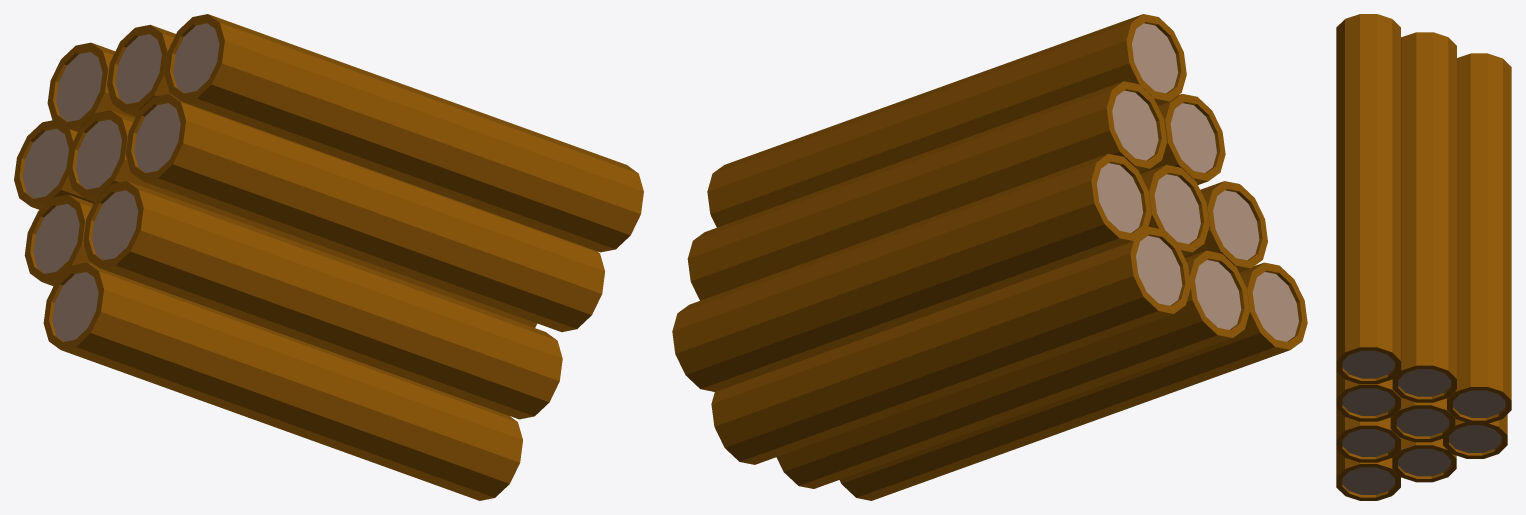
Rendered from Woods.fbx.
3 renders of one model, left to right at view 1: azimuth 30°, elevation 25°; view 2: azimuth 150°, elevation 25°; view 3: azimuth 270°, elevation 25°, orthographic. The views are drawn at different scales.
Visible parts, largest first — view 1: imagetostl_mesh0, imagetostl_mesh2, imagetostl_mesh3, imagetostl_mesh1, imagetostl_mesh5, imagetostl_mesh7, imagetostl_mesh4, imagetostl_mesh6, imagetostl_mesh8; view 2: imagetostl_mesh7, imagetostl_mesh8, imagetostl_mesh6, imagetostl_mesh0, imagetostl_mesh4, imagetostl_mesh3, imagetostl_mesh2, imagetostl_mesh1, imagetostl_mesh5; view 3: imagetostl_mesh0, imagetostl_mesh6, imagetostl_mesh7, imagetostl_mesh2, imagetostl_mesh3, imagetostl_mesh1, imagetostl_mesh5, imagetostl_mesh4, imagetostl_mesh8.
Part boxes in pixels (x1=…): imagetostl_mesh0: x1=164, y1=14, x2=643, y2=252; imagetostl_mesh2: x1=83, y1=181, x2=562, y2=419; imagetostl_mesh3: x1=43, y1=262, x2=522, y2=500; imagetostl_mesh1: x1=125, y1=94, x2=604, y2=332; imagetostl_mesh5: x1=68, y1=110, x2=537, y2=327; imagetostl_mesh7: x1=47, y1=42, x2=135, y2=131; imagetostl_mesh4: x1=24, y1=194, x2=95, y2=286; imagetostl_mesh6: x1=107, y1=24, x2=175, y2=116; imagetostl_mesh8: x1=14, y1=119, x2=94, y2=209; imagetostl_mesh7: x1=672, y1=153, x2=1151, y2=391; imagetostl_mesh8: x1=711, y1=226, x2=1190, y2=464; imagetostl_mesh6: x1=687, y1=81, x2=1167, y2=300; imagetostl_mesh0: x1=707, y1=14, x2=1186, y2=227; imagetostl_mesh4: x1=776, y1=250, x2=1249, y2=488; imagetostl_mesh3: x1=839, y1=262, x2=1307, y2=500; imagetostl_mesh2: x1=1183, y1=181, x2=1267, y2=272; imagetostl_mesh1: x1=1139, y1=94, x2=1225, y2=184; imagetostl_mesh5: x1=1140, y1=165, x2=1209, y2=255; imagetostl_mesh0: x1=1336, y1=14, x2=1400, y2=384; imagetostl_mesh6: x1=1392, y1=32, x2=1456, y2=402; imagetostl_mesh7: x1=1447, y1=53, x2=1511, y2=423; imagetostl_mesh2: x1=1336, y1=408, x2=1400, y2=462; imagetostl_mesh3: x1=1336, y1=449, x2=1400, y2=500; imagetostl_mesh1: x1=1336, y1=371, x2=1400, y2=421; imagetostl_mesh5: x1=1390, y1=397, x2=1455, y2=442; imagetostl_mesh4: x1=1392, y1=438, x2=1456, y2=482; imagetostl_mesh8: x1=1443, y1=414, x2=1507, y2=458.
Size of the model in its own units: 4.69e+07 by 4.2e+07 by 1.69e+07.
